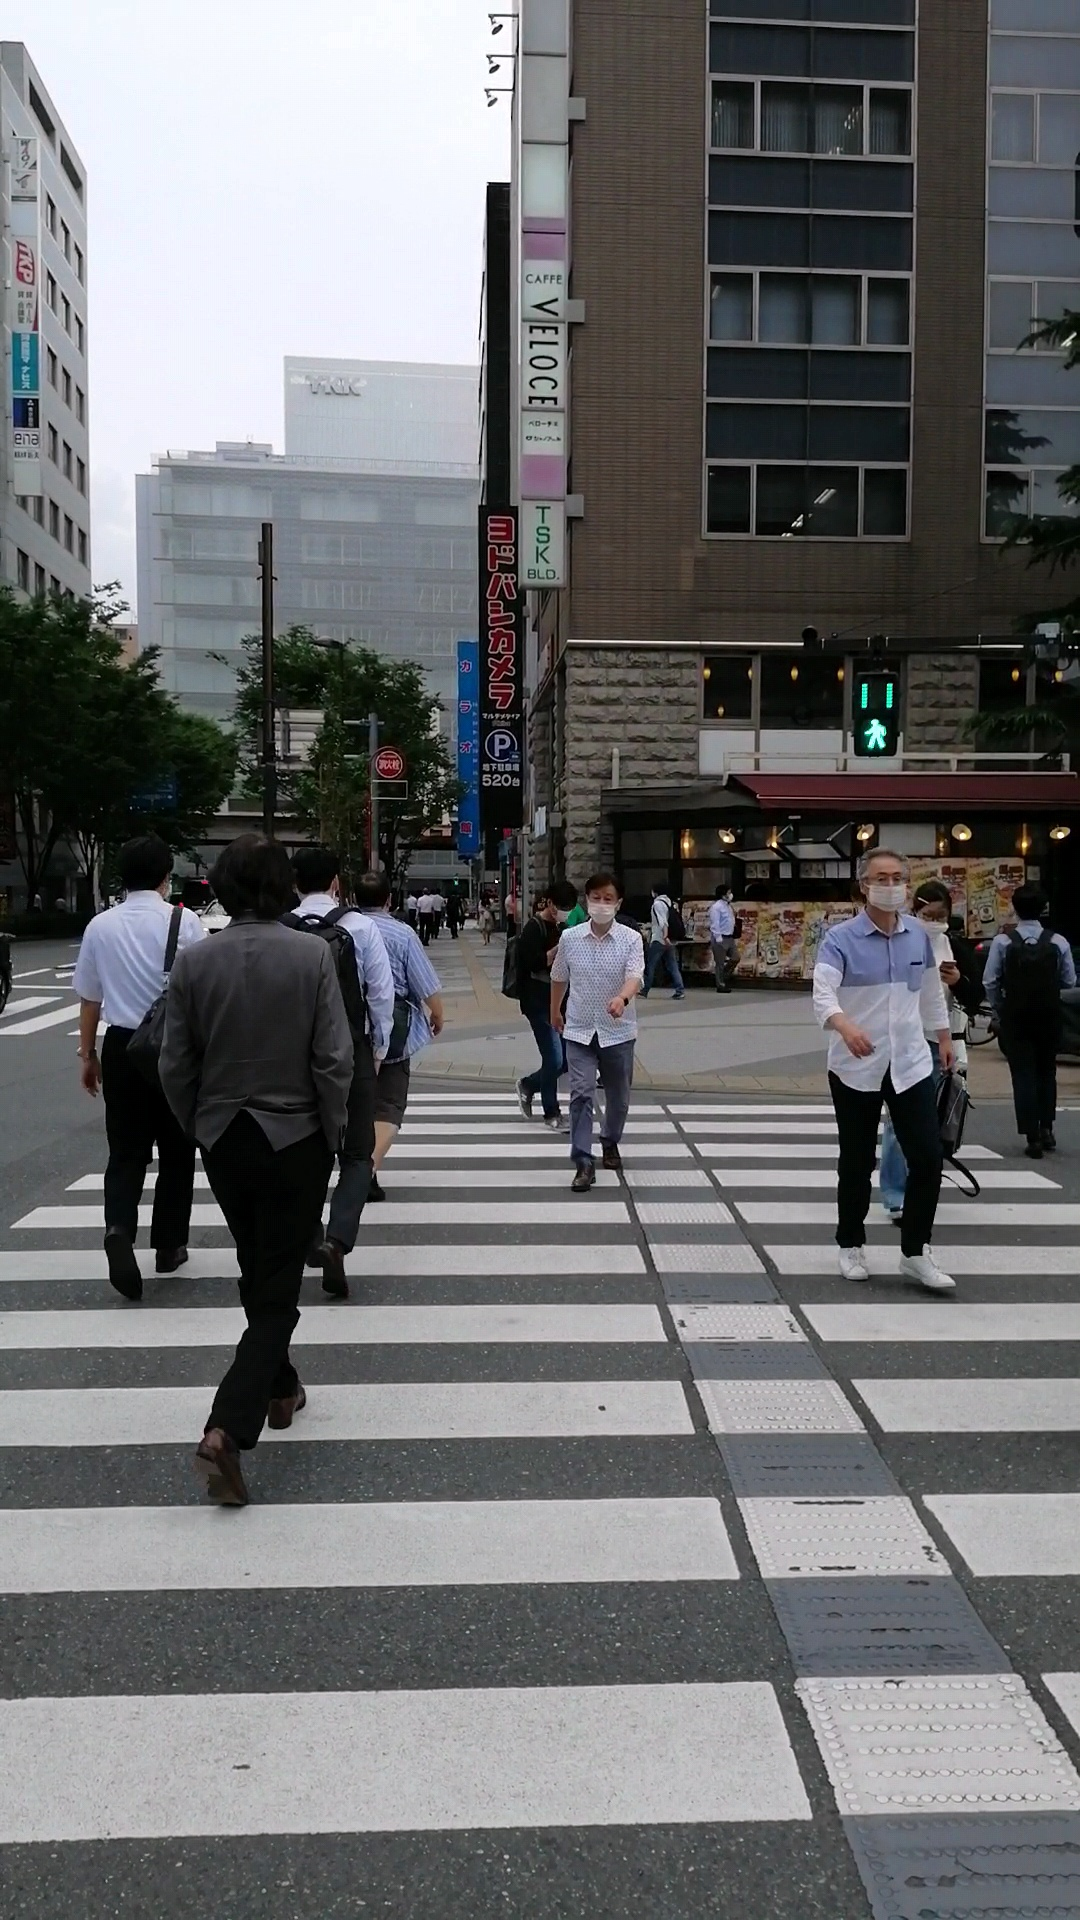green: (852, 670, 899, 754)
